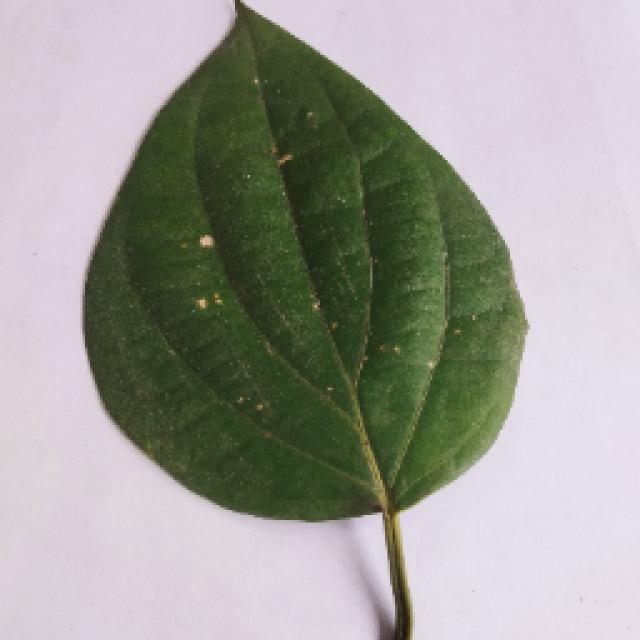pollu-disease: (78, 8, 522, 618)
